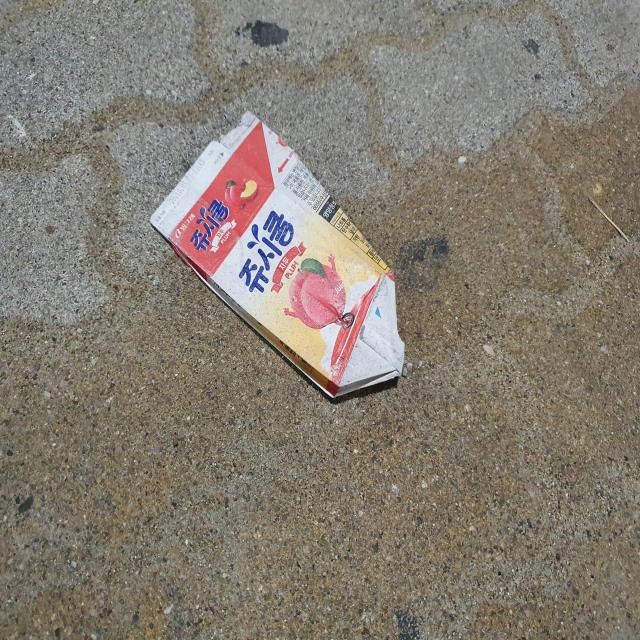paperpack: (150, 111, 405, 397)
